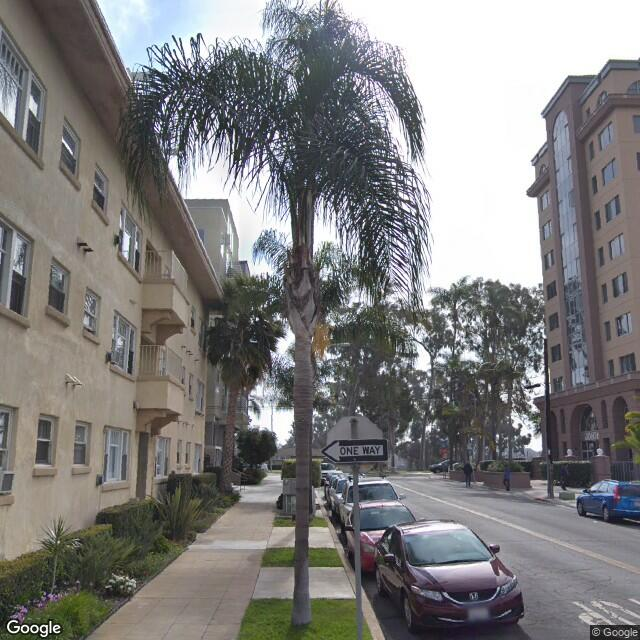window: (1, 30, 52, 160), (1, 233, 34, 312), (101, 422, 133, 484), (111, 310, 138, 370), (34, 414, 57, 474), (52, 257, 71, 321), (607, 239, 629, 262)
